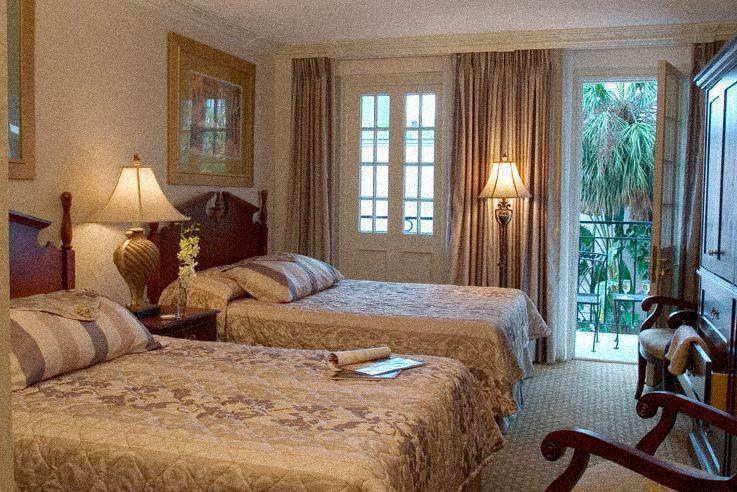Armario: (698, 62, 732, 408)
Puerta: (341, 75, 444, 275)
